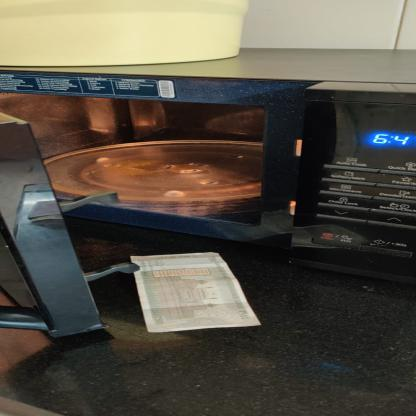New500Back: (124, 252, 262, 334)
